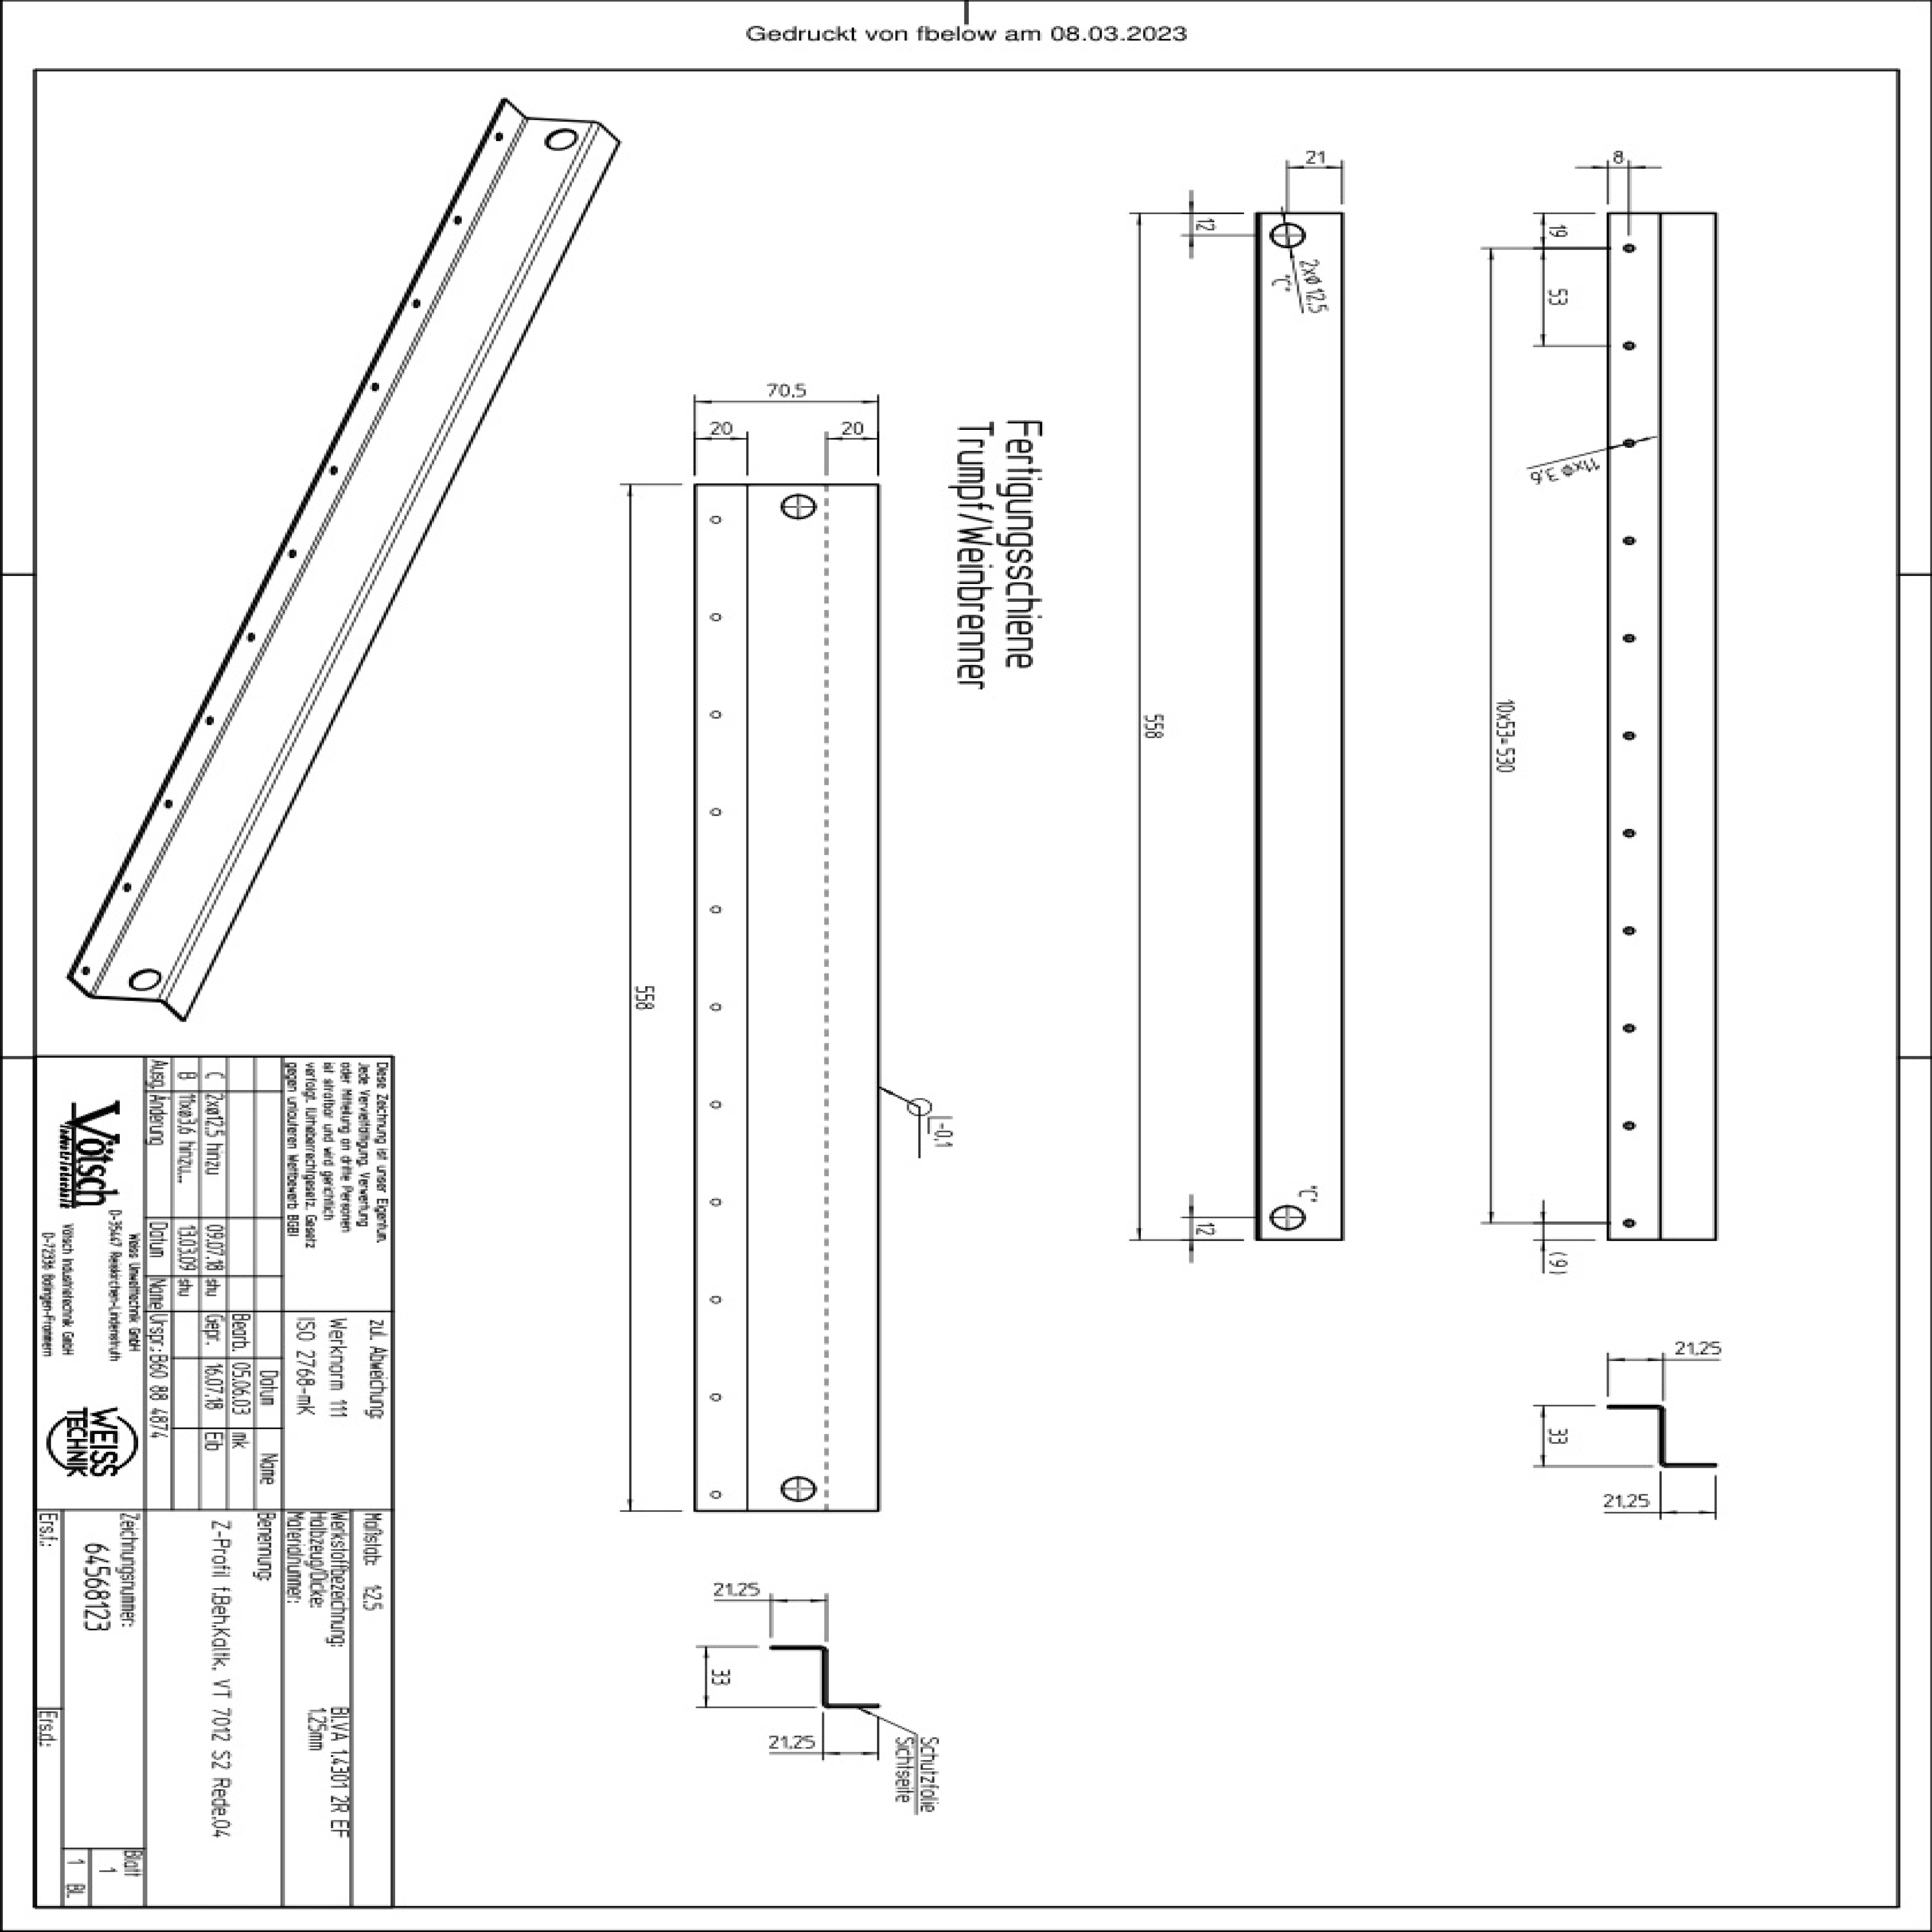InnerContour: (536, 117, 584, 163), (1269, 219, 1311, 251), (1265, 1203, 1309, 1233), (775, 1474, 817, 1504), (124, 966, 166, 993), (780, 492, 817, 522)
